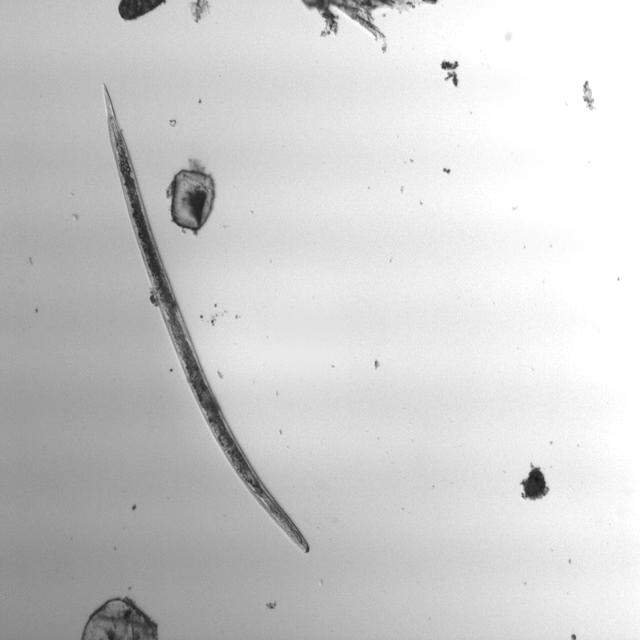Radopholus: (102, 75, 325, 558)
